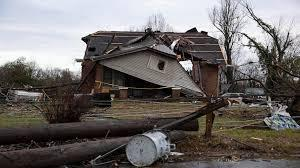destroyed: (71, 24, 230, 109)
